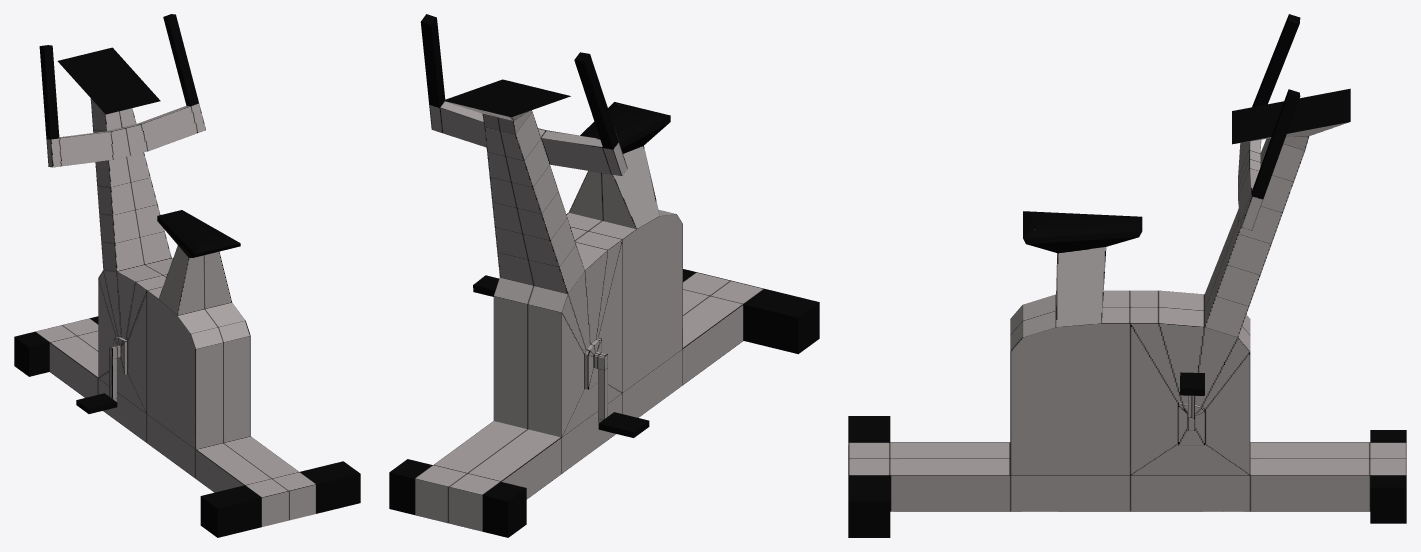
The model's file is bike.fbx.
The picture shows the model from 3 angles, left to right: view 1: azimuth 30°, elevation 25°; view 2: azimuth 150°, elevation 25°; view 3: azimuth 270°, elevation 25°; orthographic projection. The views are drawn at different scales.
Parts seen in each view (by area): view 1: 立方体; view 2: 立方体; view 3: 立方体.
Part boxes in pixels (x1,y1,x2,y2): 立方体: [14, 14, 360, 537]; 立方体: [389, 14, 819, 537]; 立方体: [848, 14, 1406, 537].
Bounding box in the file's own units: 158 × 354 × 406.
